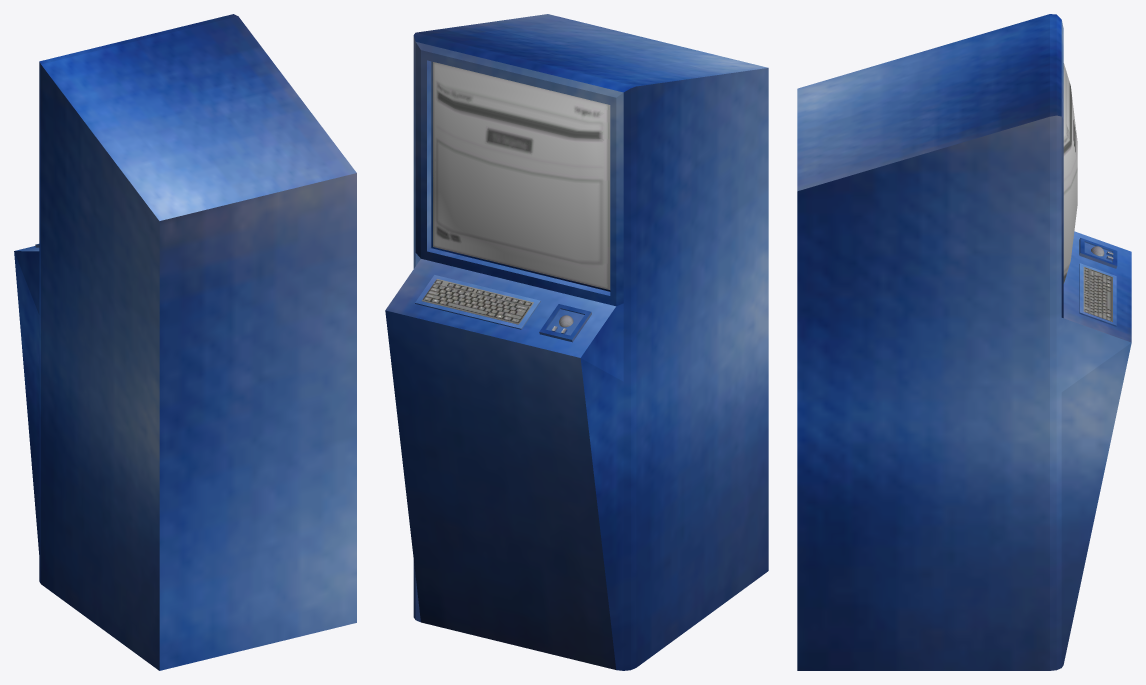
File: StipendTerminal.glb
The picture shows the model from 3 angles, left to right: view 1: azimuth 30°, elevation 25°; view 2: azimuth 150°, elevation 25°; view 3: azimuth 270°, elevation 25°; orthographic projection. The views are drawn at different scales.
Parts seen in each view (by area): view 1: StipendTerminal; view 2: StipendTerminal; view 3: StipendTerminal.
Part boxes in pixels (x1,y1,x2,y2): StipendTerminal: [14, 14, 356, 670]; StipendTerminal: [385, 14, 768, 670]; StipendTerminal: [797, 14, 1131, 670].
Bounding box in the file's own units: 6.44 × 16.22 × 8.86.
1 material, 1 textured.
